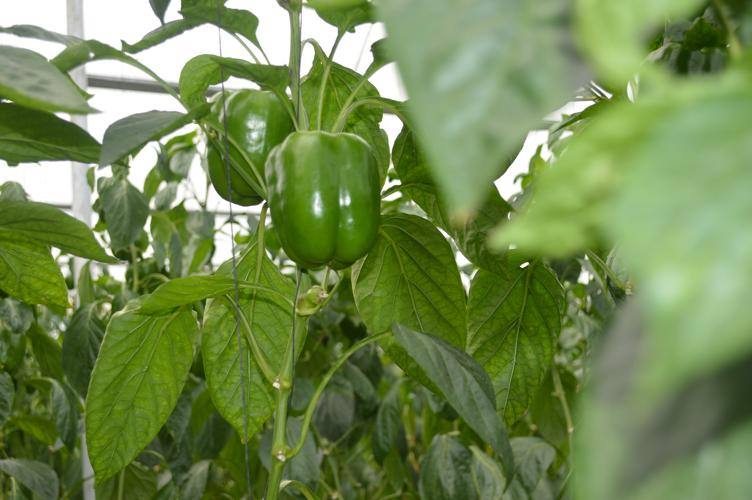BellPepper: (260, 129, 385, 269), (204, 85, 282, 203)
